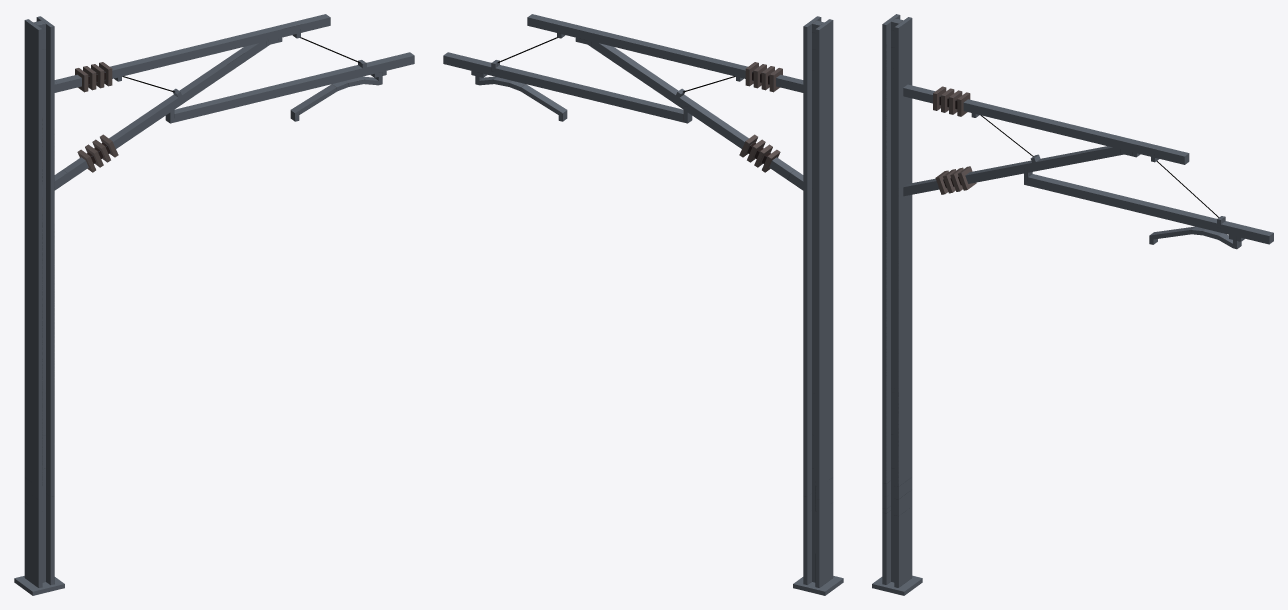
Rendered from athen-catenary-7m-1.obj.
3 views of the same model, side by side, from view 1: azimuth 30°, elevation 25°; view 2: azimuth 150°, elevation 25°; view 3: azimuth 330°, elevation 25° (orthographic).
Parts seen in each view (by area): view 1: cube; view 2: cube; view 3: cube.
Part boxes in pixels (left/top/right/bottom): cube: left=14, top=14, right=414, bottom=595; cube: left=443, top=14, right=843, bottom=595; cube: left=872, top=14, right=1273, bottom=595.
Size of the model in its own units: 6.06 by 8.38 by 0.5.
1 material, 1 textured.
